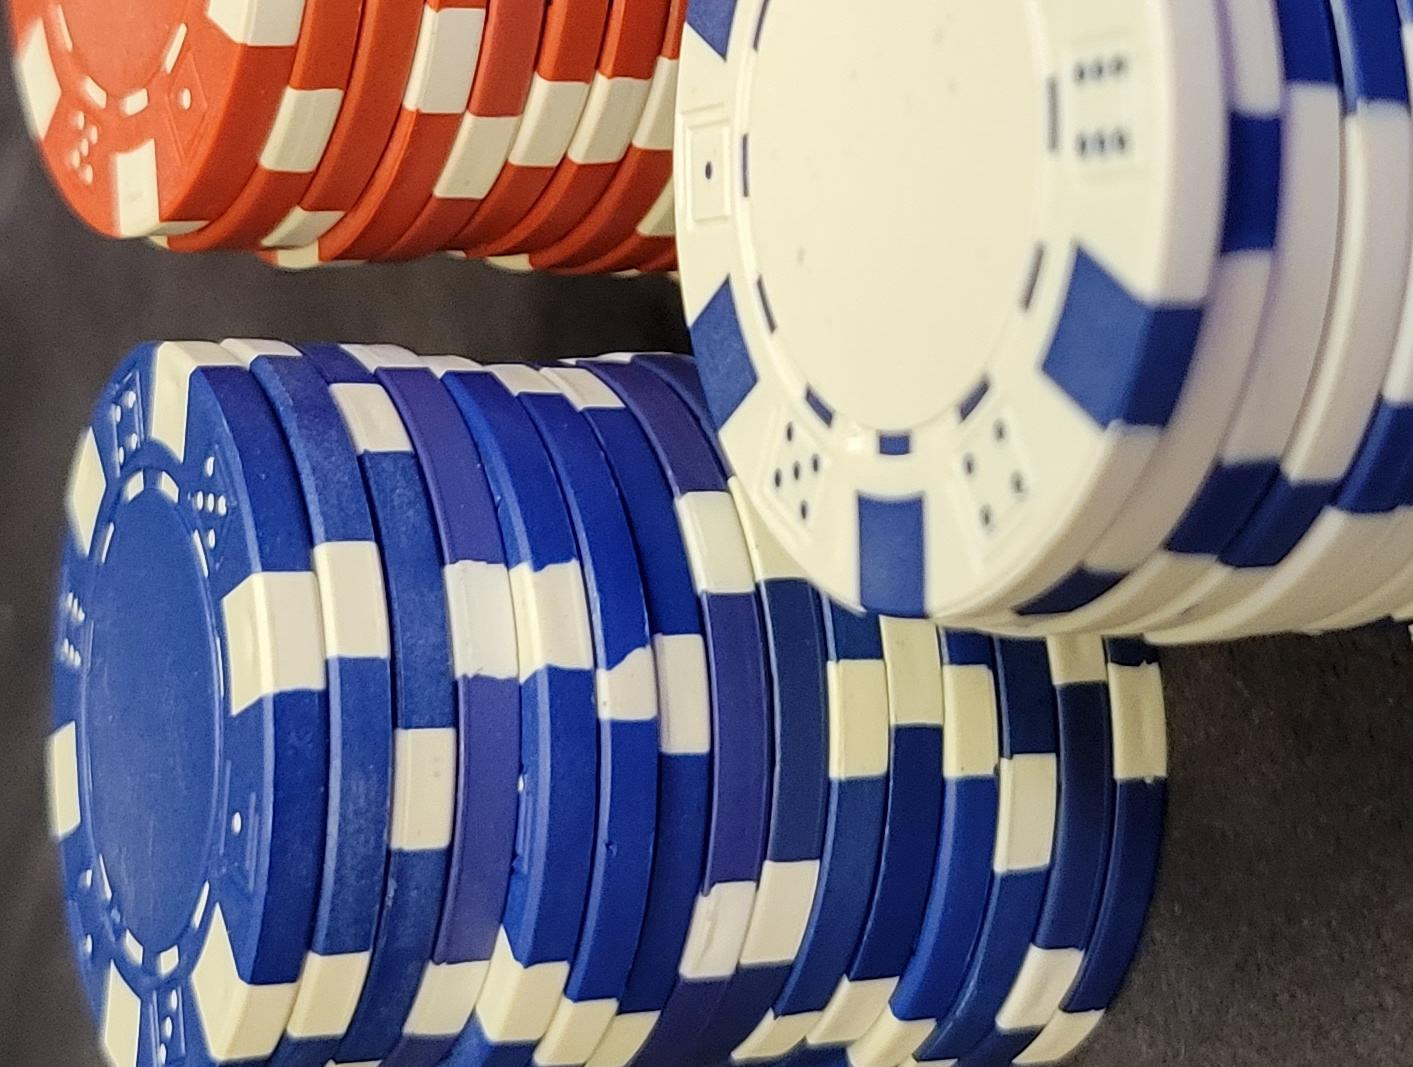Chip: (1, 453, 733, 1067)
